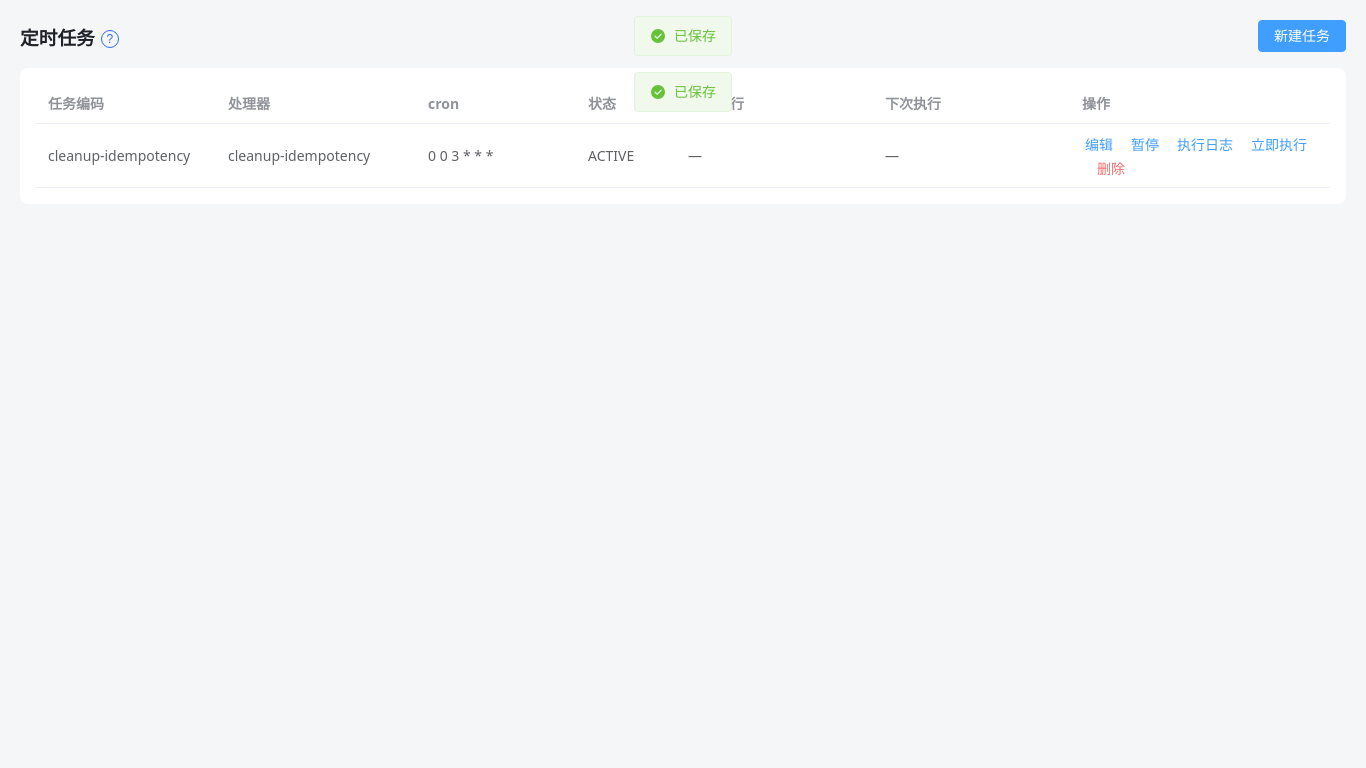
JobsView › 打开执行日志抽屉并按任务查询
Click the button "执行日志". click: {"x": 1205, "y": 145}
box: [1174, 135, 1236, 155]
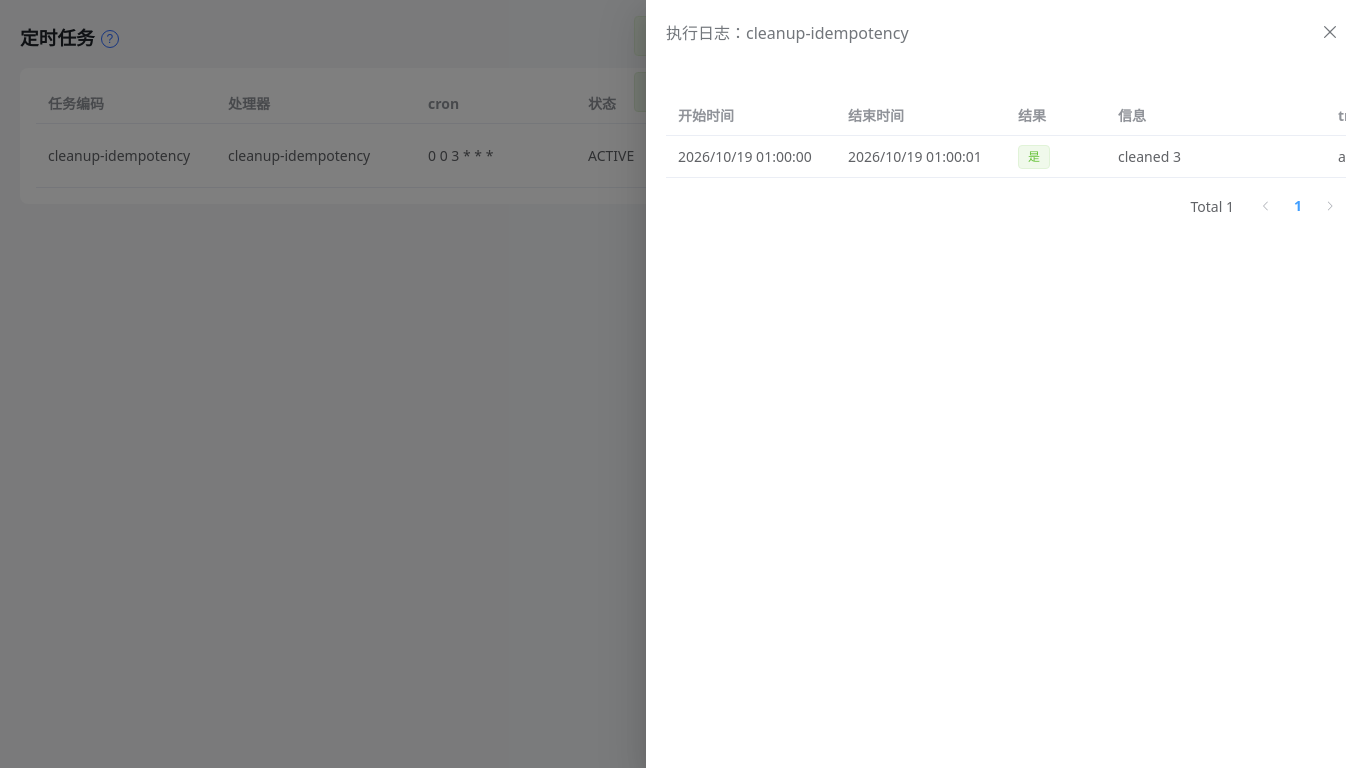
Result: the text "cleaned 3" is shown at [1118, 147, 1181, 166]
